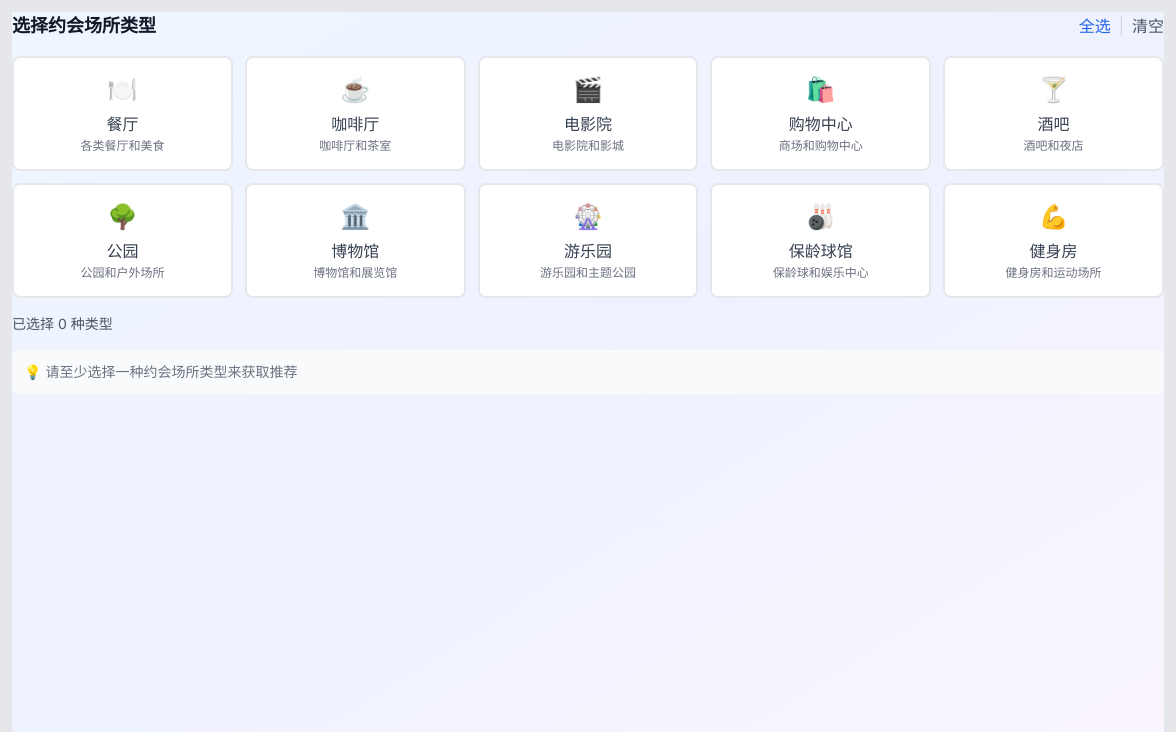
Scenario: VenueTypeSelector Integration › integrates with search store correctly
Expected: the text "已选择 0 种类型" is shown, [12,314,113,334]
Click the button "🍽️ 餐厅 各类餐厅和美食": (122, 114) [12,56,233,171]
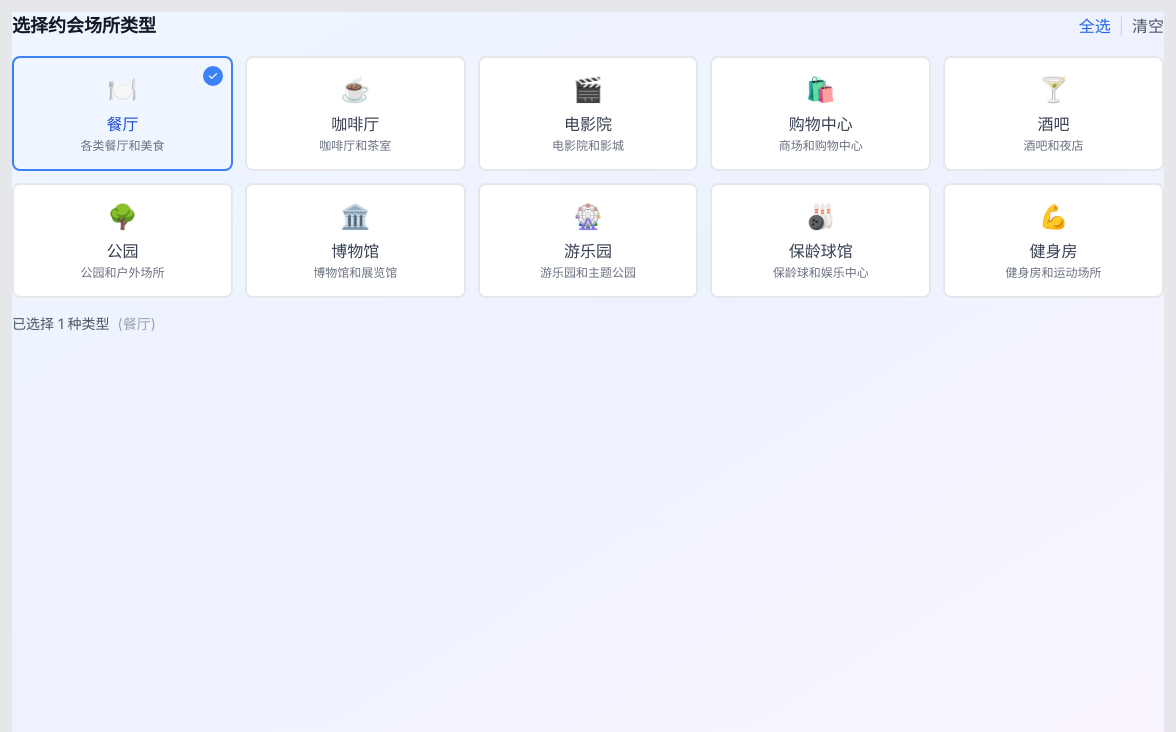
Expected: the text "已选择 1 种类型" is shown, [12,314,156,334]
